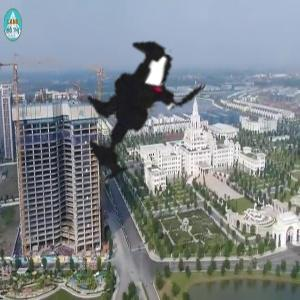drone: (33, 4, 256, 227)
